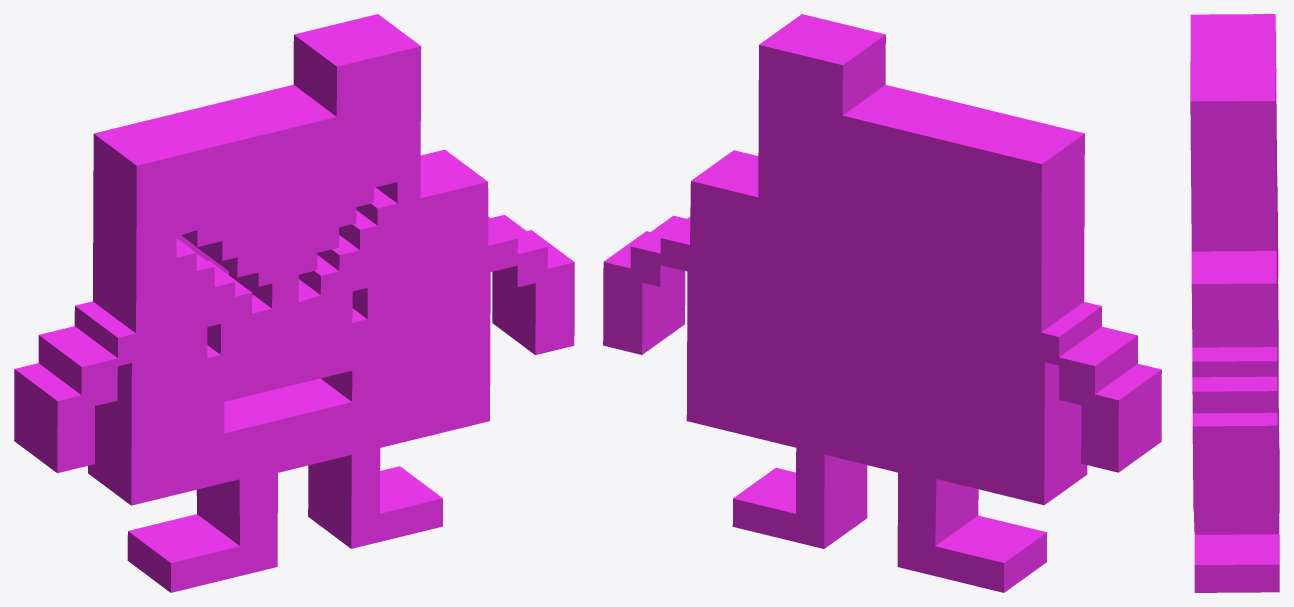
The model's file is bigerr.dae.
The picture shows the model from 3 angles, left to right: view 1: azimuth 30°, elevation 25°; view 2: azimuth 150°, elevation 25°; view 3: azimuth 270°, elevation 25°; orthographic projection.
Visible parts, largest first — view 1: skp1344 (×4); view 2: skp1344 (×4); view 3: skp1344.
Part boxes in pixels (x1,y1,x2,y2): skp1344 (×4): [14, 14, 574, 592]; skp1344 (×4): [603, 14, 1161, 592]; skp1344: [1190, 14, 1279, 592].
Size of the model in its own units: 8.78 by 1.33 by 7.92.
